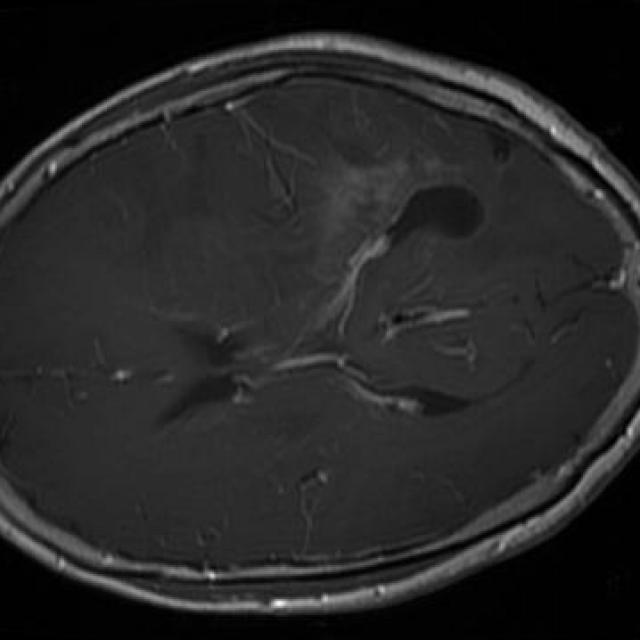glioma: (324, 150, 483, 335)
